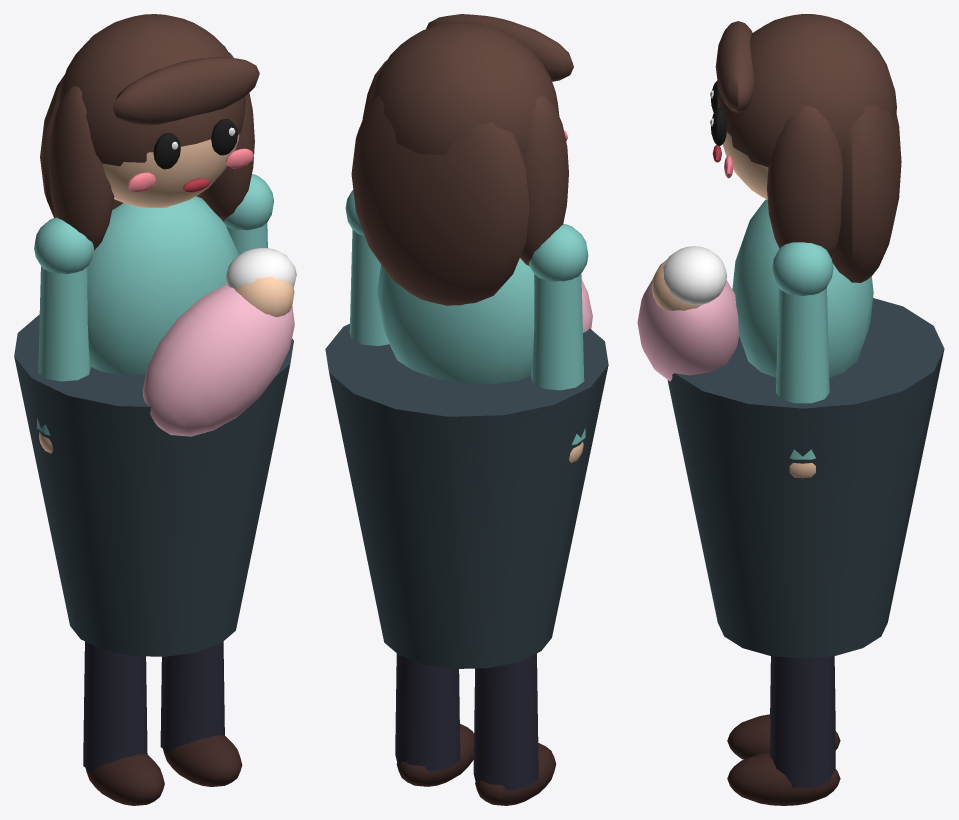
The model's file is cameos_fayge.glb.
3 renders of one model, left to right at view 1: azimuth 30°, elevation 25°; view 2: azimuth 150°, elevation 25°; view 3: azimuth 270°, elevation 25°, orthographic.
Visible parts, largest first — view 1: Body.021, CameosFaygeExtra, Leg_R.021, Leg_L.021, Arm_R.021, Arm_L.021; view 2: Body.021, Leg_R.021, Leg_L.021, Arm_R.021, Arm_L.021; view 3: Body.021, Leg_L.021, CameosFaygeExtra, Arm_L.021, Leg_R.021.
Part boxes in pixels (x1=…): Body.021: x1=14, y1=14, x2=293, y2=656; CameosFaygeExtra: x1=142, y1=248, x2=296, y2=436; Leg_R.021: x1=83, y1=641, x2=164, y2=805; Leg_L.021: x1=160, y1=641, x2=242, y2=786; Arm_R.021: x1=34, y1=217, x2=94, y2=453; Arm_L.021: x1=223, y1=174, x2=273, y2=254; Body.021: x1=325, y1=14, x2=608, y2=668; Leg_R.021: x1=473, y1=653, x2=556, y2=805; Leg_L.021: x1=395, y1=653, x2=473, y2=786; Arm_R.021: x1=529, y1=224, x2=588, y2=463; Arm_L.021: x1=345, y1=190, x2=389, y2=345; Body.021: x1=667, y1=14, x2=944, y2=658; Leg_L.021: x1=727, y1=656, x2=840, y2=805; CameosFaygeExtra: x1=637, y1=246, x2=738, y2=381; Arm_L.021: x1=772, y1=242, x2=833, y2=478; Leg_R.021: x1=727, y1=656, x2=840, y2=759.
Bounding box in the file's own units: 0.6 × 1.78 × 0.65.
